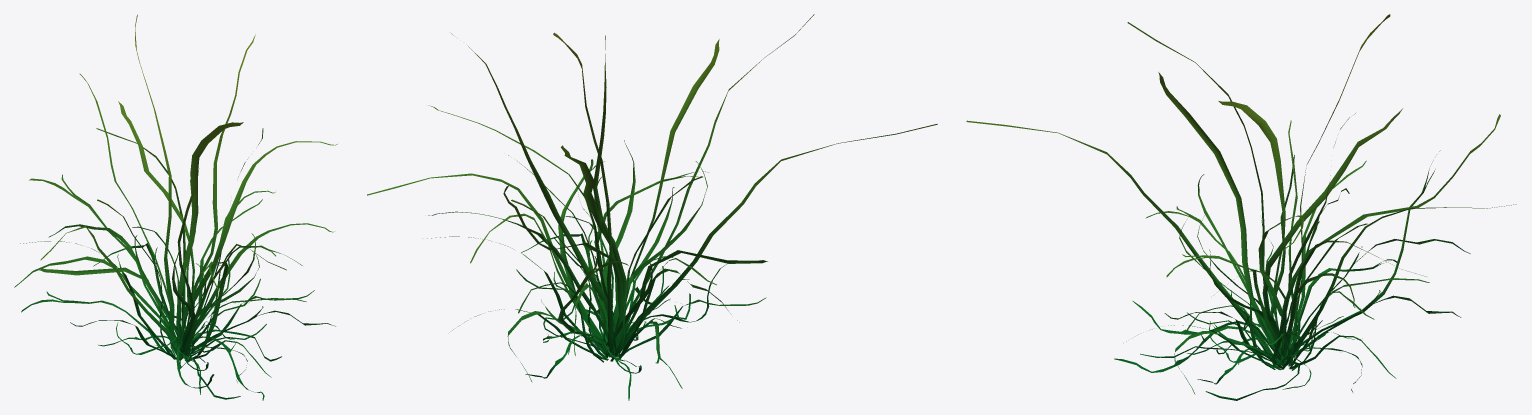
The model's file is grass_medium_02_3.glb.
3 renders of one model, left to right at view 1: azimuth 30°, elevation 25°; view 2: azimuth 150°, elevation 25°; view 3: azimuth 270°, elevation 25°, orthographic. The views are drawn at different scales.
Visible parts, largest first — view 1: grass_medium_02_d; view 2: grass_medium_02_d; view 3: grass_medium_02_d.
Part boxes in pixels (x1,y1,x2,y2): grass_medium_02_d: (14,14,337,400); grass_medium_02_d: (367,14,937,400); grass_medium_02_d: (966,14,1516,400).
Bounding box in the file's own units: 0.3174 × 0.2604 × 0.3619.
